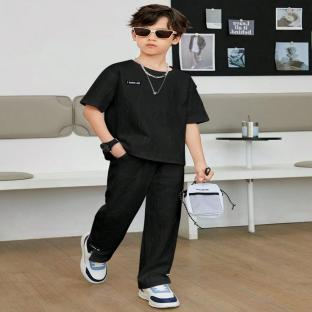Human: (81, 4, 214, 308)
